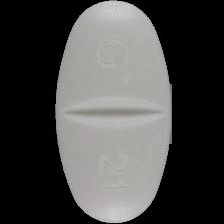59762-5023: (0, 0, 224, 224)
